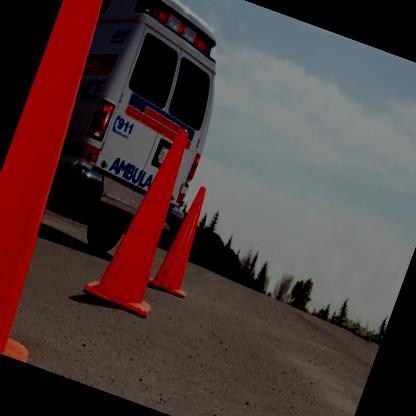cone: (81, 115, 210, 317), (146, 180, 221, 298)
